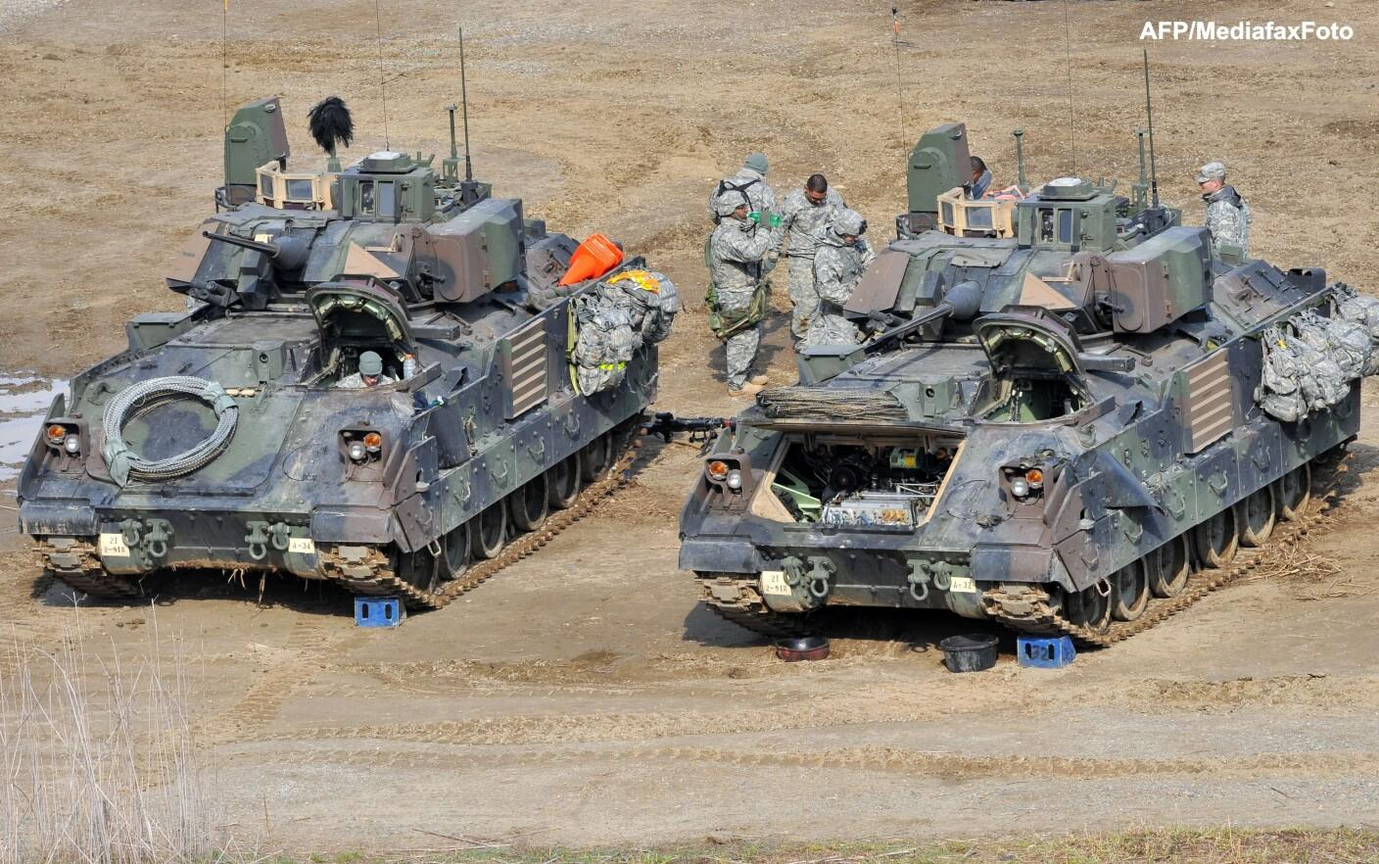armored_car: (695, 124, 1375, 651), (8, 113, 680, 620)
